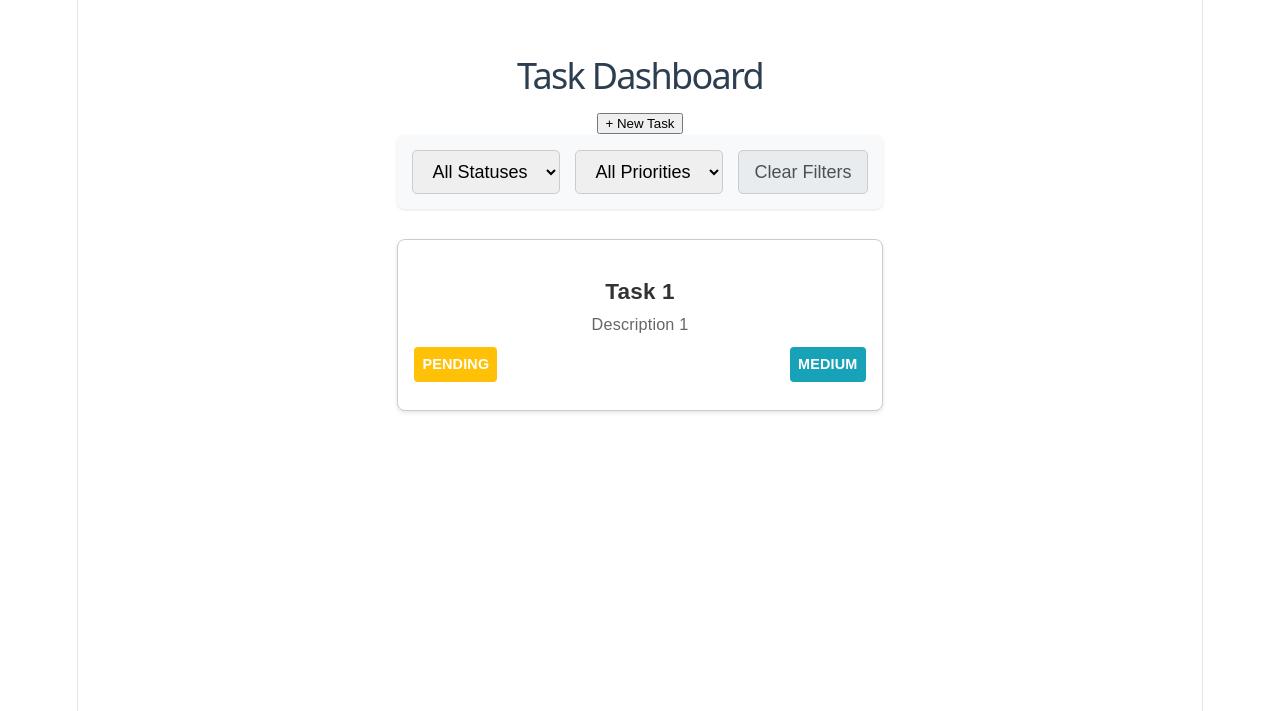
Test: TaskDashboard › enters edit mode from details view
Click the heading "Task 1": click(640, 291) top-left (605, 279), bottom-right (675, 304)
(page scrolled)
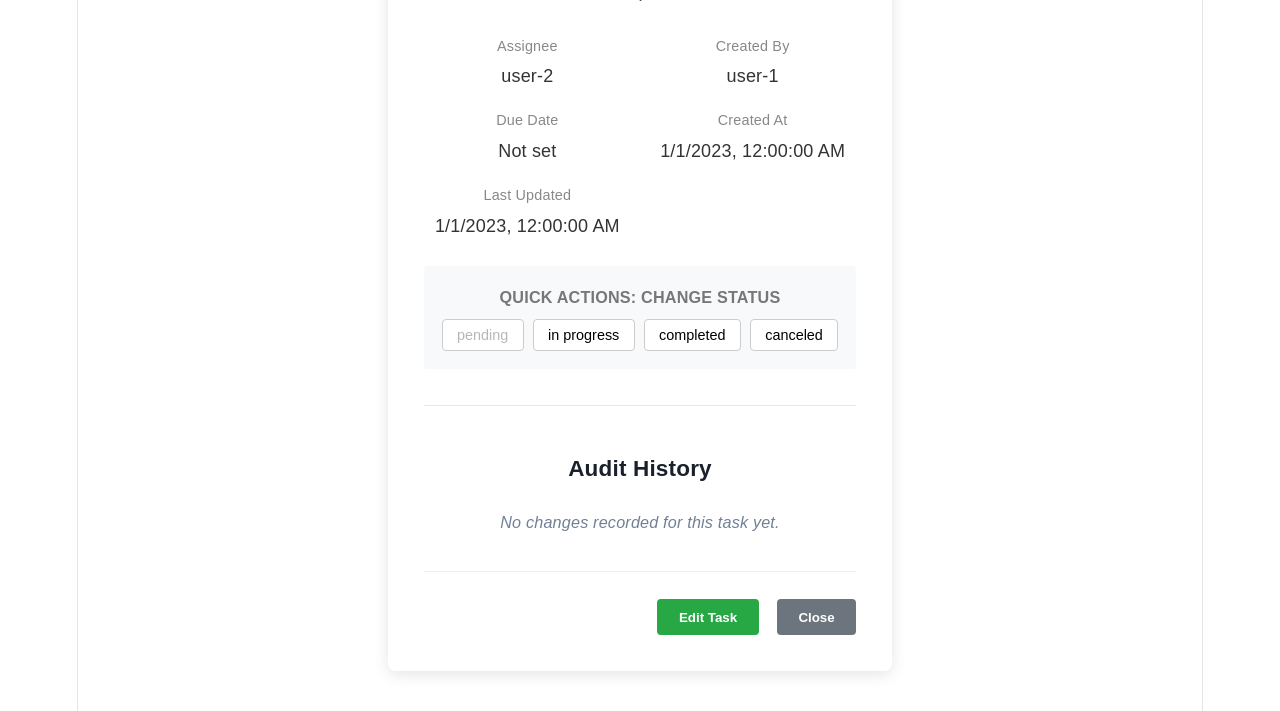
Click the button "Edit Task": click(708, 617) top-left (657, 599), bottom-right (759, 635)
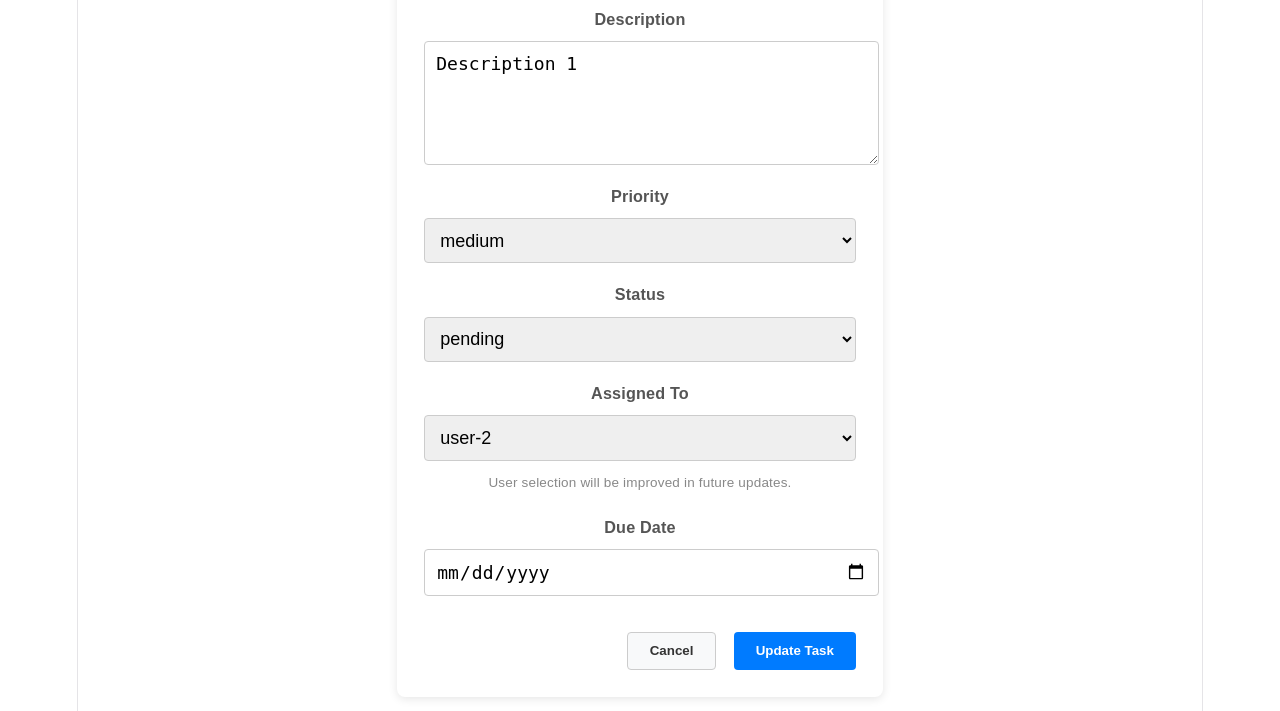
Expected: the button "Update Task" is shown, top-left (734, 632), bottom-right (856, 670)
Clicar em cancelar na edição deve voltar para a view de detalhes
Click the button "Cancel": click(672, 651) top-left (627, 632), bottom-right (716, 670)
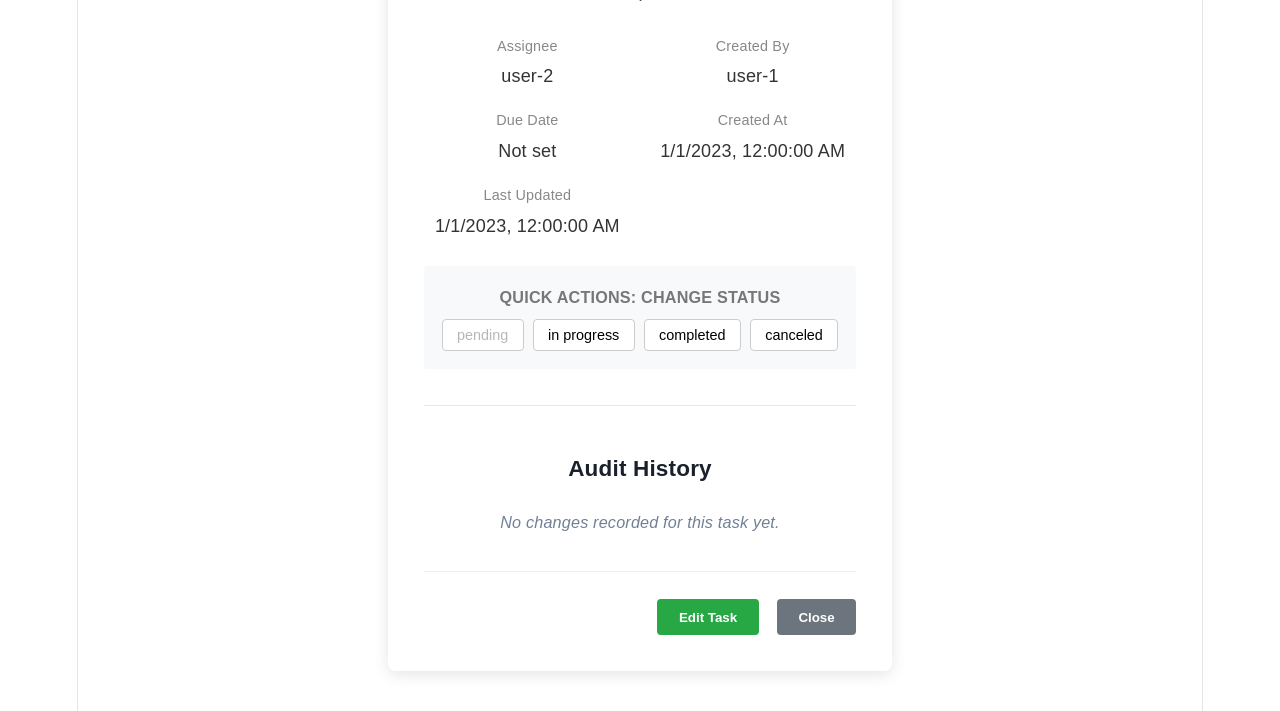
Expected: the button "Close" is shown, top-left (777, 599), bottom-right (856, 635)
